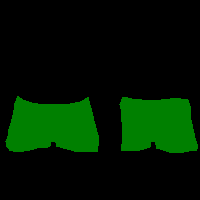mutande: (5, 95, 99, 152), (119, 96, 198, 153)
